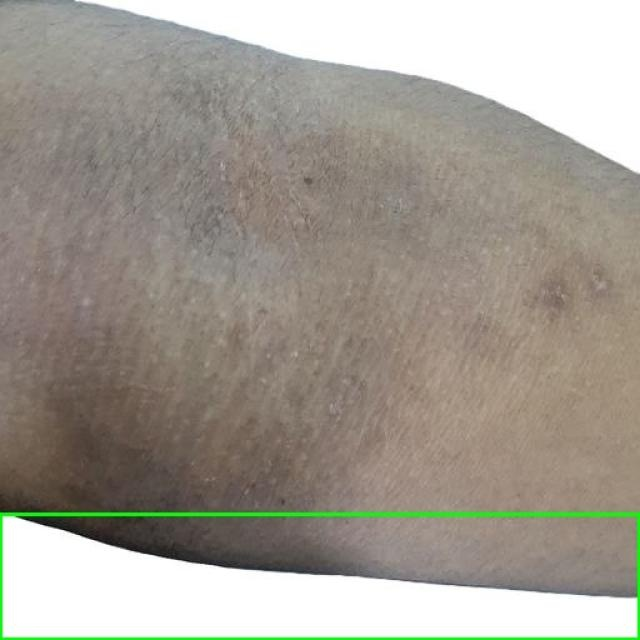Contact Dermatitis: (0, 514, 639, 639)
